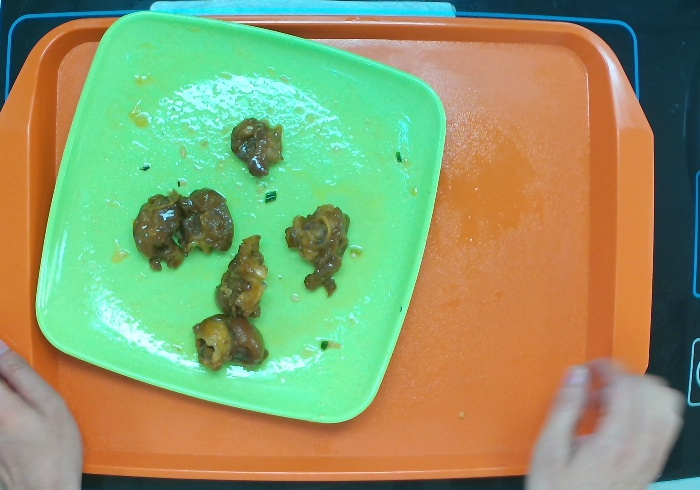ZNLD-Lv_Fang_Pan: (35, 9, 446, 430)
